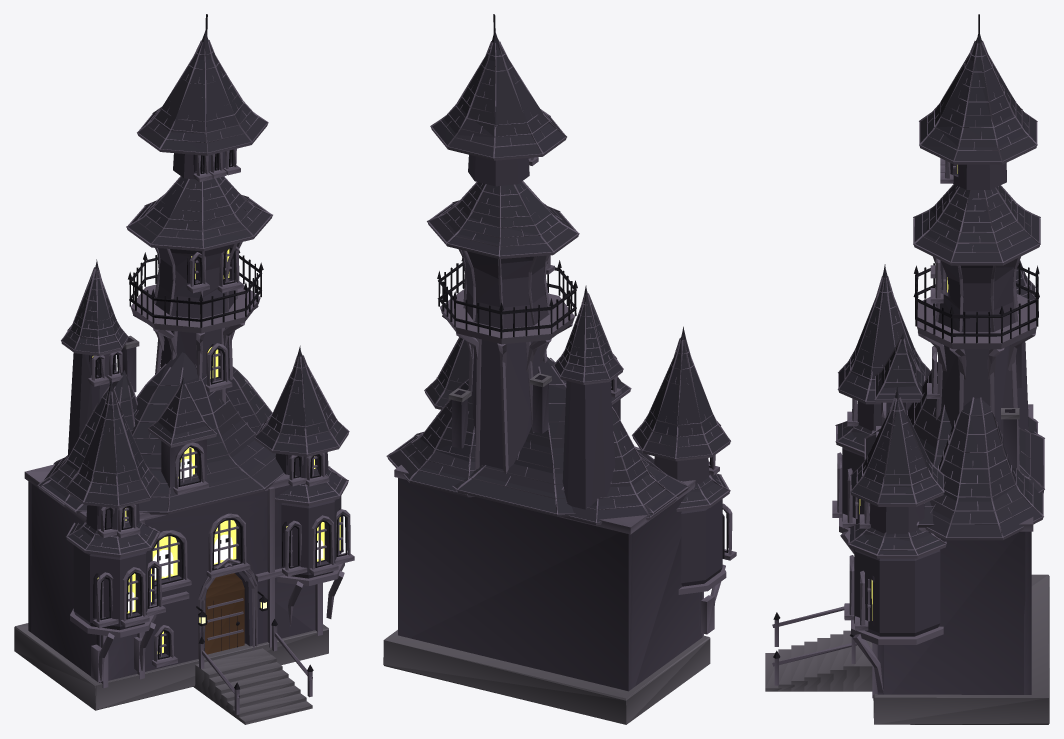
File: castle.glb
The picture shows the model from 3 angles, left to right: view 1: azimuth 30°, elevation 25°; view 2: azimuth 150°, elevation 25°; view 3: azimuth 270°, elevation 25°; orthographic projection. The views are drawn at different scales.
Visible parts, largest first — view 1: castle; view 2: castle; view 3: castle.
Boxes of the visible parts, x1=… form: castle: x1=14, y1=14, x2=354, y2=724; castle: x1=383, y1=14, x2=736, y2=724; castle: x1=765, y1=14, x2=1049, y2=724.
Bounding box in the file's own units: 7.48 × 16.34 × 6.25.
1 material, 1 textured.
